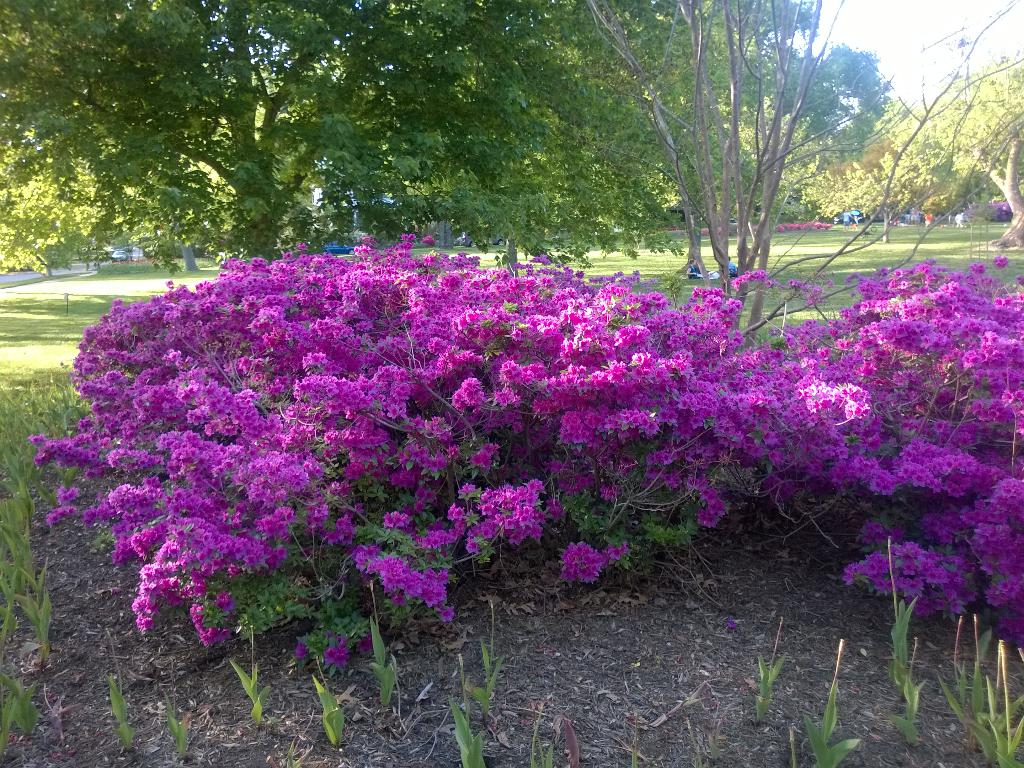Tree: (0, 0, 1023, 346)
